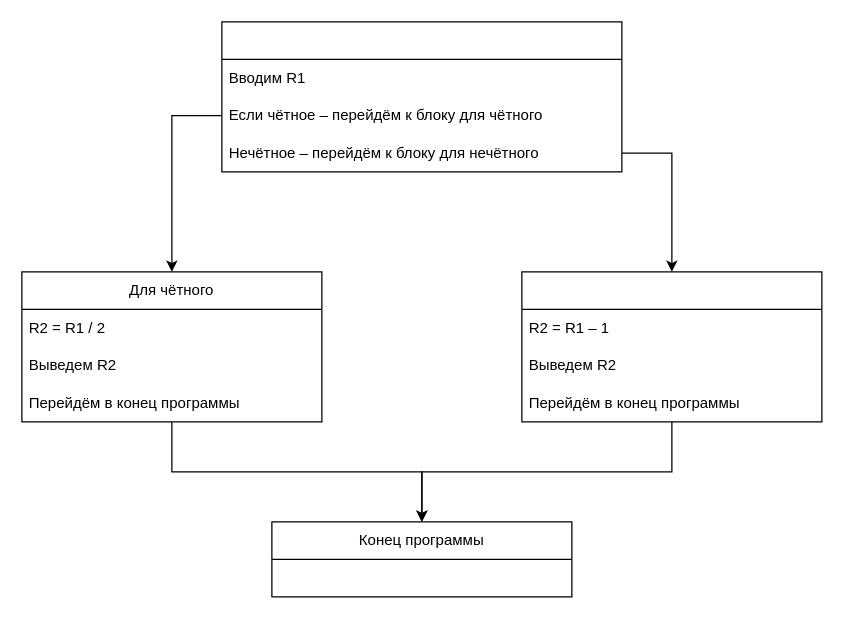
Image size: 844x619. Some labels were removed from this diagram. The shapes that lost their labels are listed below. From the top down, each one's box as (x1, y1, x2, y2) in pixels, then its label:
(221, 21, 622, 172): Начало
(521, 271, 822, 422): Для нечётного
